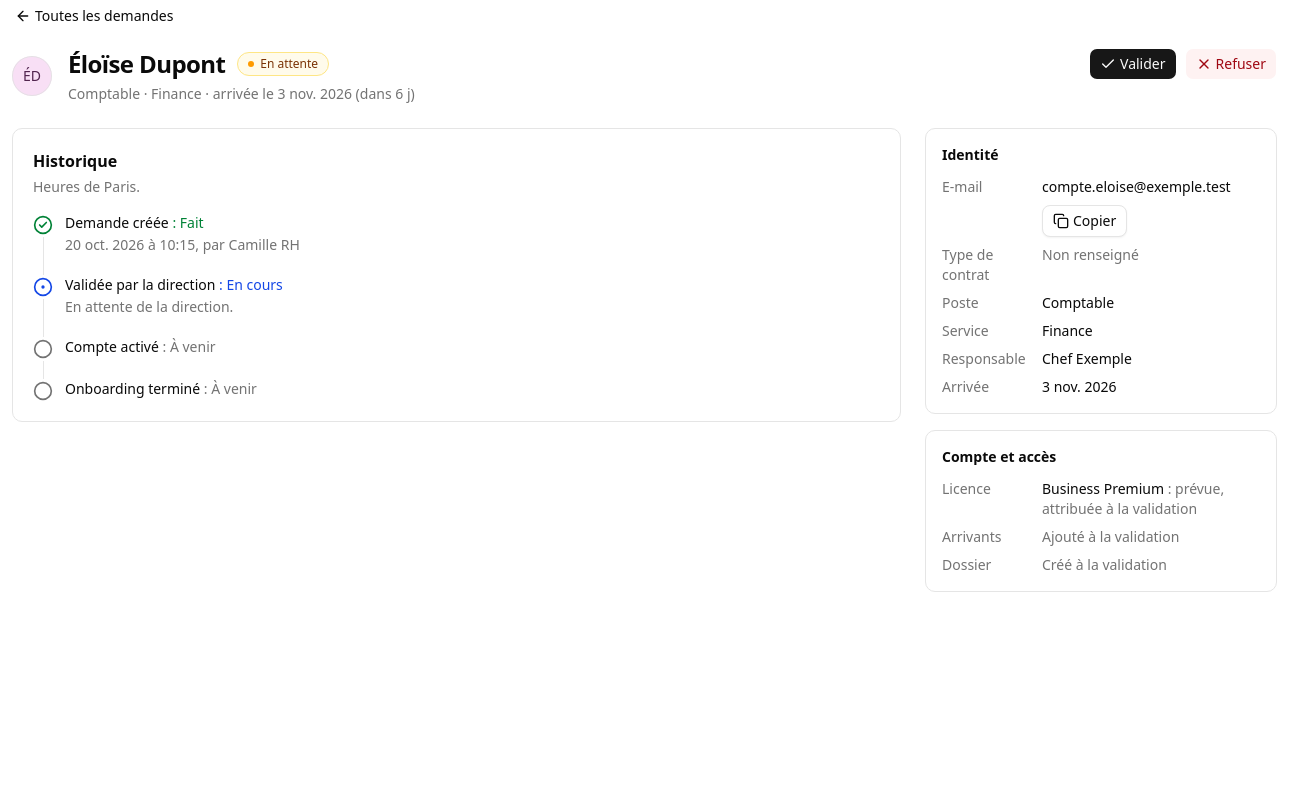
Test: adresse professionnelle (UPN) › presse-papiers refusé : message dans le panneau, l’adresse reste affichée, rien n’est cassé
Click the button with aria-label "Copier l’adresse" at {"x": 1085, "y": 221}, box [1042,205,1127,237]
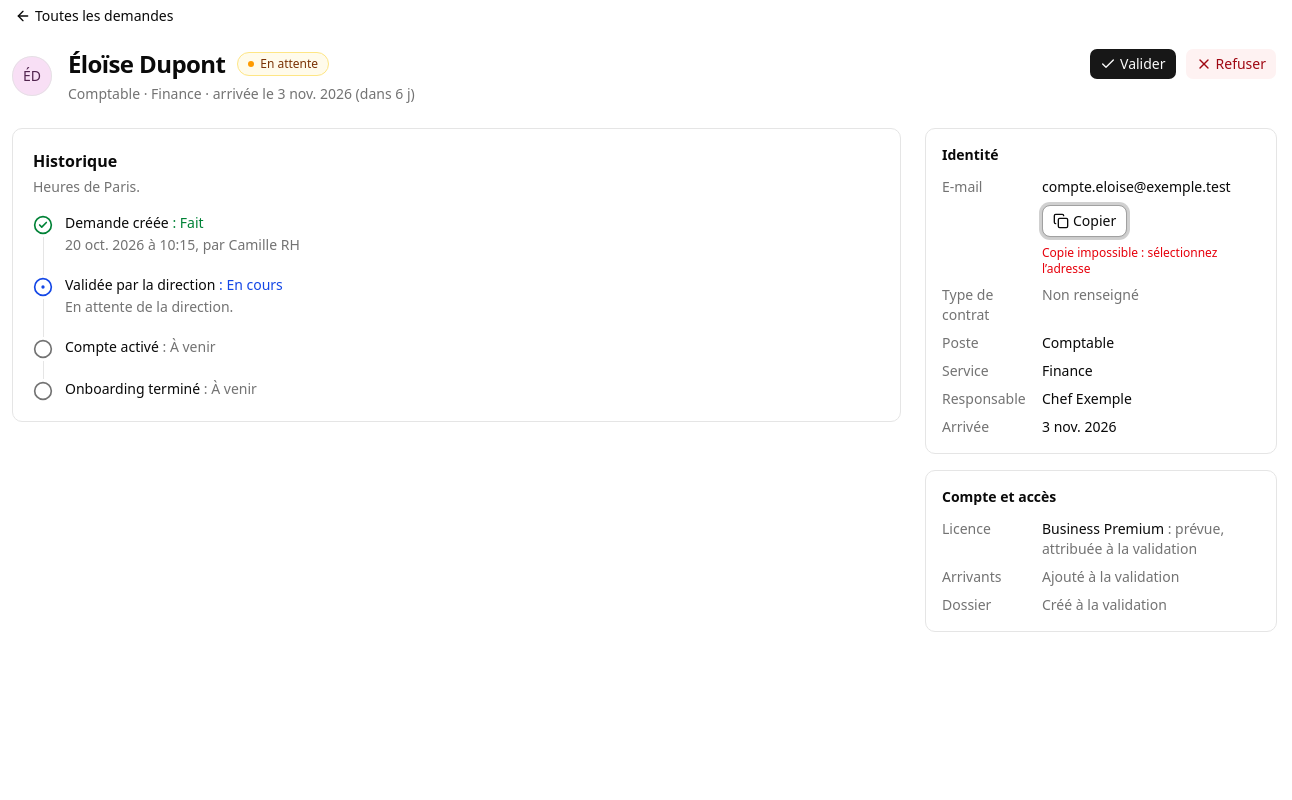
Expected: the text "compte.eloise@exemple.test" is shown, [1042,177,1231,197]
Expected: the text "Copie impossible : sélectionnez l’adresse" is shown, [1042,244,1217,277]
